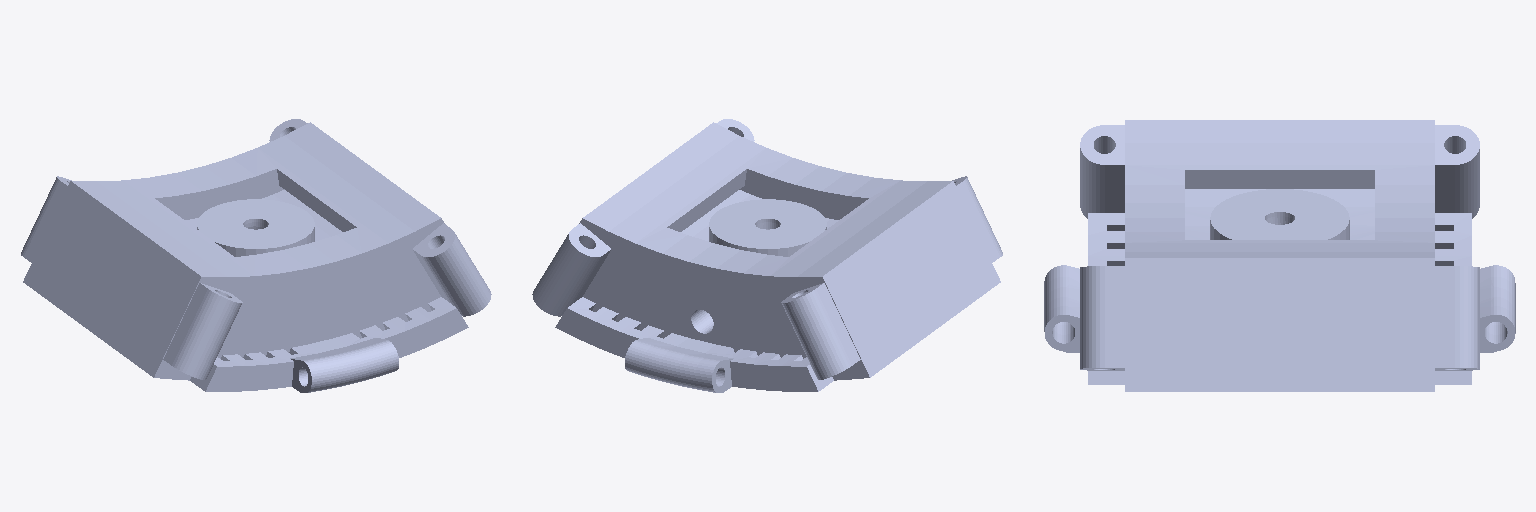
URDF robot description (SoftGrasperAssembly):
<?xml version="1.0" encoding="utf-8"?>
<!-- This URDF was automatically created by SolidWorks to URDF Exporter! Originally created by [author] ([email redacted]) 
     Commit Version: 1.6.0-4-g7f85cfe  Build Version: 1.6.7995.38578
     For more information, please see http://wiki.ros.org/sw_urdf_exporter -->
<robot
  name="SoftGrasperAssembly">
  <link
    name="SoftJawSupport">
    <inertial>
      <origin
        xyz="-0.00469837185860517 0.0187907990076485 -0.00213132141294291"
        rpy="0 0 0" />
      <mass
        value="0.0200194973174634" />
      <inertia
        ixx="2.89222439047605E-06"
        ixy="-1.57754698251412E-20"
        ixz="2.1783749078538E-21"
        iyy="5.92689954681078E-06"
        iyz="8.32919442690706E-10"
        izz="3.69577196530894E-06" />
    </inertial>
    <visual>
      <origin
        xyz="0 0 0"
        rpy="0 0 0" />
      <geometry>
        <mesh
          filename="package://SoftGrasperAssembly/meshes/SoftJawSupport.STL" />
      </geometry>
      <material
        name="">
        <color
          rgba="0.792156862745098 0.819607843137255 0.933333333333333 1" />
      </material>
    </visual>
    <collision>
      <origin
        xyz="0 0 0"
        rpy="0 0 0" />
      <geometry>
        <mesh
          filename="package://SoftGrasperAssembly/meshes/SoftJawSupport.STL" />
      </geometry>
    </collision>
  </link>
</robot>

--- Facts derived from the render (not from the file) ---
Views: 3 orthographic renders of the robot side by side, from view 1: azimuth 30°, elevation 25°; view 2: azimuth 150°, elevation 25°; view 3: azimuth 270°, elevation 25°.
Model SoftGrasperAssembly with 1 links and 0 joints (none), rooted at SoftJawSupport, posed every joint at zero.
Visible links, largest first — view 1: SoftJawSupport; view 2: SoftJawSupport; view 3: SoftJawSupport.
Boxes of the visible links, x1,y1,x2,y2 form: SoftJawSupport: [21, 119, 491, 392]; SoftJawSupport: [532, 119, 1002, 392]; SoftJawSupport: [1044, 120, 1515, 391].
Bounding box of the posed robot: 49.49 × 50.89 × 16.76 m (x, y, z).
1 mesh visuals loaded from 1 distinct referenced files (1 binary STL).